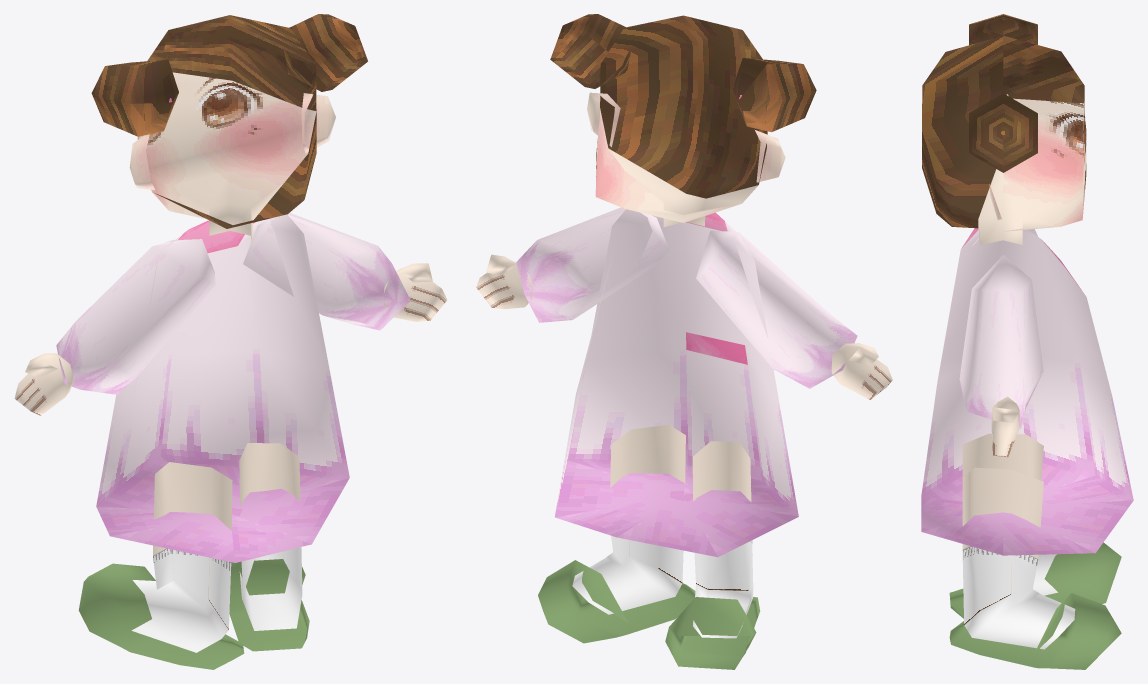
Rendered from ps2_save-icons_fullhousekiss.glb.
3 views of the same model, side by side, from view 1: azimuth 30°, elevation 25°; view 2: azimuth 150°, elevation 25°; view 3: azimuth 270°, elevation 25° (orthographic). The views are drawn at different scales.
Visible parts, largest first — view 1: STATIC.ICO; view 2: STATIC.ICO; view 3: STATIC.ICO.
Boxes of the visible parts, x1,y1,x2,y2 form: STATIC.ICO: (14, 14, 447, 669); STATIC.ICO: (476, 14, 892, 669); STATIC.ICO: (921, 14, 1133, 669).
Bounding box in the file's own units: 3.45 × 4.77 × 1.58.
1 material, 1 textured.
